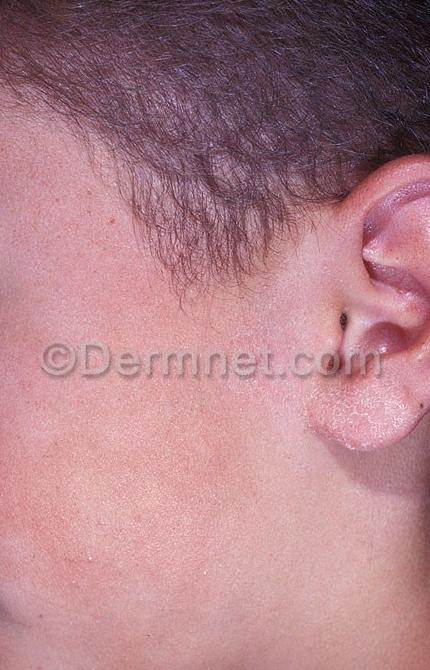xerosis 1: (224, 278, 423, 455)
